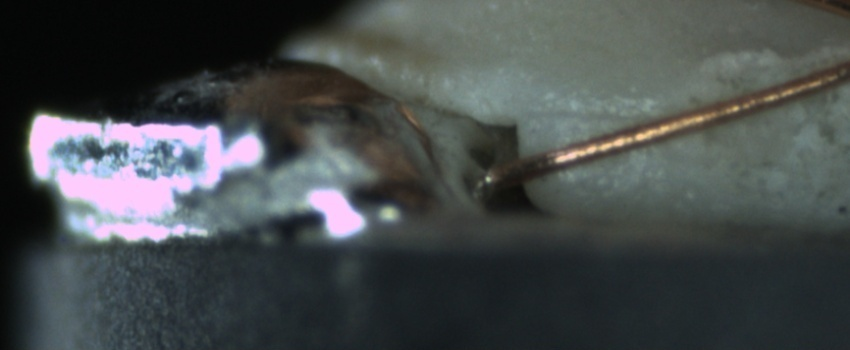DL: (536, 83, 671, 143)
